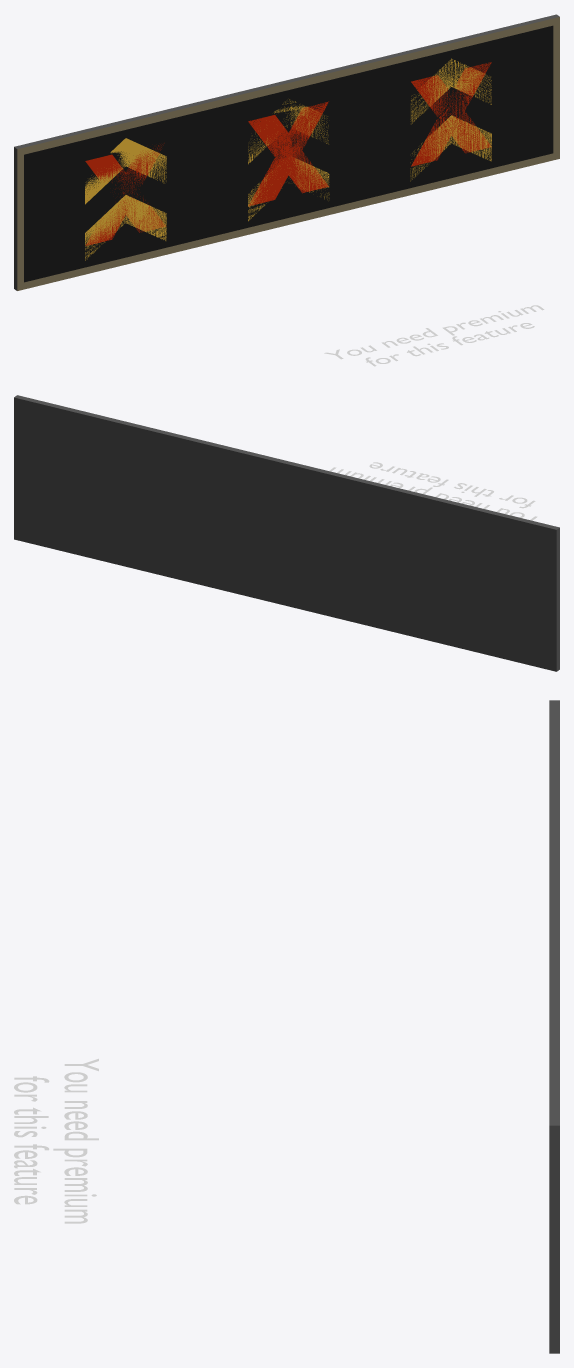
The model's file is signs.glb.
3 views of the same model, one above another, from view 1: azimuth 30°, elevation 25°; view 2: azimuth 150°, elevation 25°; view 3: azimuth 270°, elevation 25° (orthographic). The views are drawn at different scales.
Parts seen in each view (by area): view 1: SignWrongWay, SignArrowUp, SignArrowDown; view 2: SignWrongWay, SignArrowUp, SignArrowDown; view 3: SignWrongWay, SignArrowDown, SignArrowUp.
Boxes of the visible parts, x1,y1,x2,y2 form: SignWrongWay: (14,14,559,290); SignArrowUp: (14,17,558,290); SignArrowDown: (324,305,544,366); SignWrongWay: (14,395,559,671); SignArrowUp: (14,397,559,671); SignArrowDown: (329,462,537,520); SignWrongWay: (549,700,559,1353); SignArrowDown: (14,1058,98,1223); SignArrowUp: (549,701,559,1125).
Bounding box in the file's own units: 20 × 5 × 10.85.
